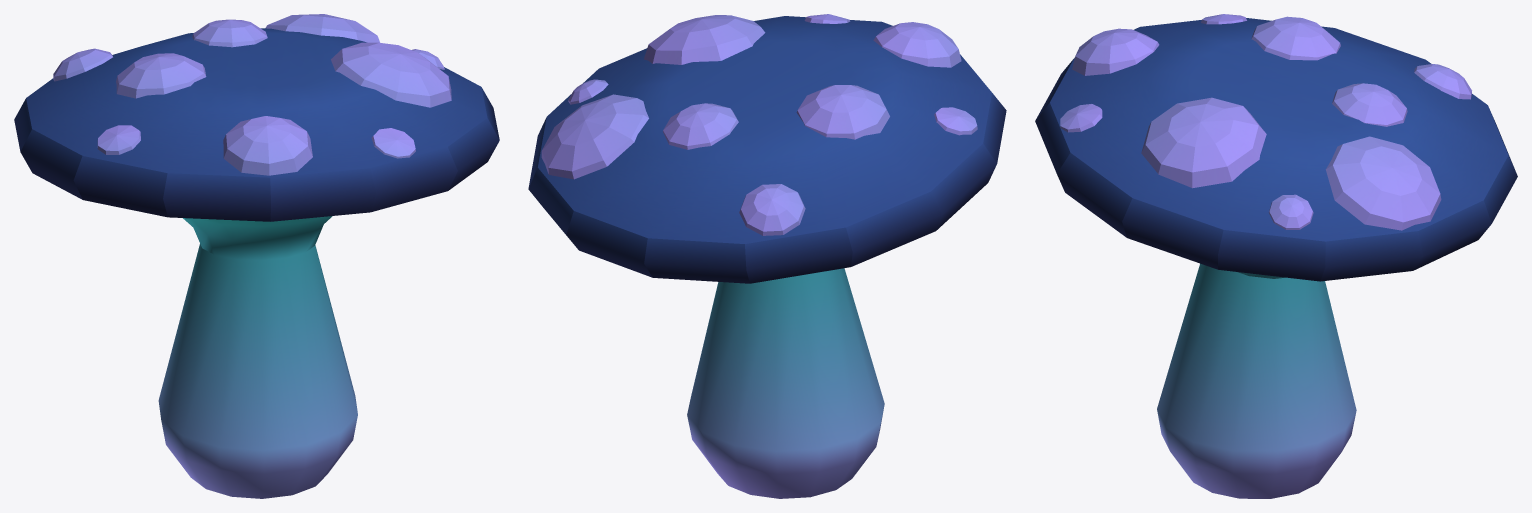
The model's file is SM_Mushroom_01.fbx.
3 renders of one model, left to right at view 1: azimuth 30°, elevation 25°; view 2: azimuth 150°, elevation 25°; view 3: azimuth 270°, elevation 25°, orthographic.
Parts seen in each view (by area): view 1: SM_Mushroom_01; view 2: SM_Mushroom_01; view 3: SM_Mushroom_01.
Boxes of the visible parts, x1,y1,x2,y2 form: SM_Mushroom_01: [14, 14, 499, 498]; SM_Mushroom_01: [528, 14, 1006, 498]; SM_Mushroom_01: [1035, 14, 1517, 498].
Size of the model in its own units: 271 by 258 by 275.
1 material, 1 textured.
